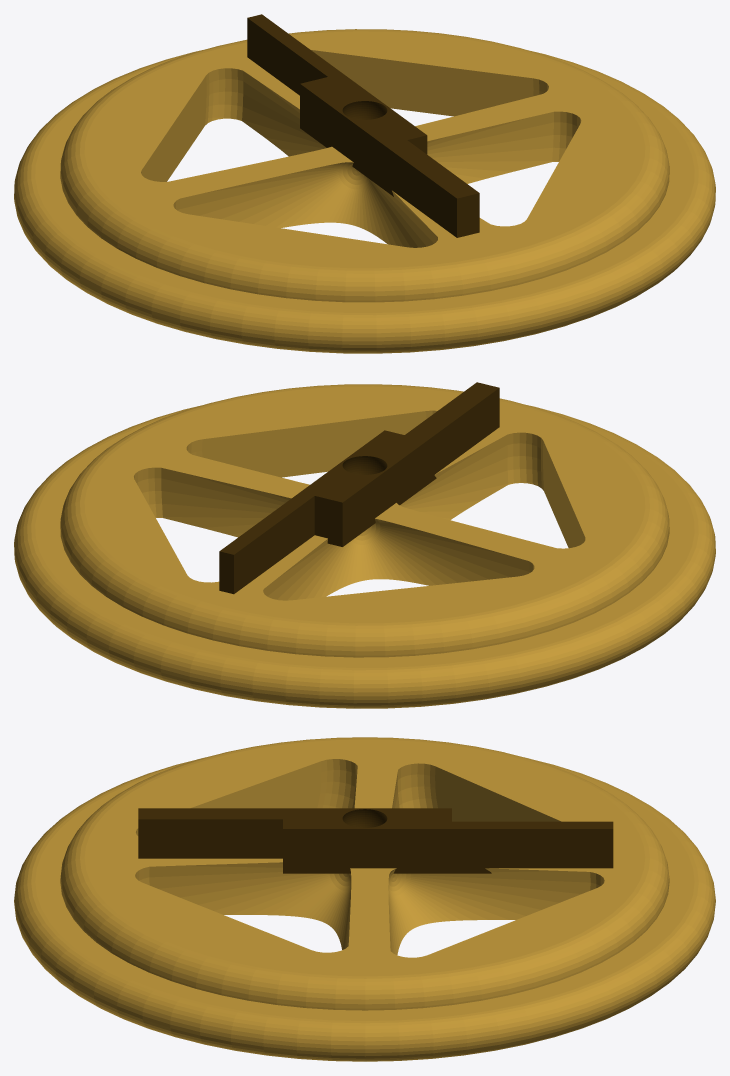
The model's file is Astrolábio.gltf.
3 renders of one model, top to bottom at view 1: azimuth 30°, elevation 25°; view 2: azimuth 150°, elevation 25°; view 3: azimuth 270°, elevation 25°, orthographic.
Visible parts, largest first — view 1: Merged Objects 1, Merged Objects; view 2: Merged Objects 1, Merged Objects; view 3: Merged Objects 1, Merged Objects.
Part boxes in pixels (left/top/right/bottom): Merged Objects 1: left=14, top=29, right=715, bottom=353; Merged Objects: left=247, top=14, right=479, bottom=237; Merged Objects 1: left=14, top=384, right=715, bottom=708; Merged Objects: left=219, top=382, right=499, bottom=594; Merged Objects 1: left=14, top=737, right=715, bottom=1061; Merged Objects: left=138, top=808, right=613, bottom=873.
Bounding box in the file's own units: 0.1152 × 0.0184 × 0.1152.
